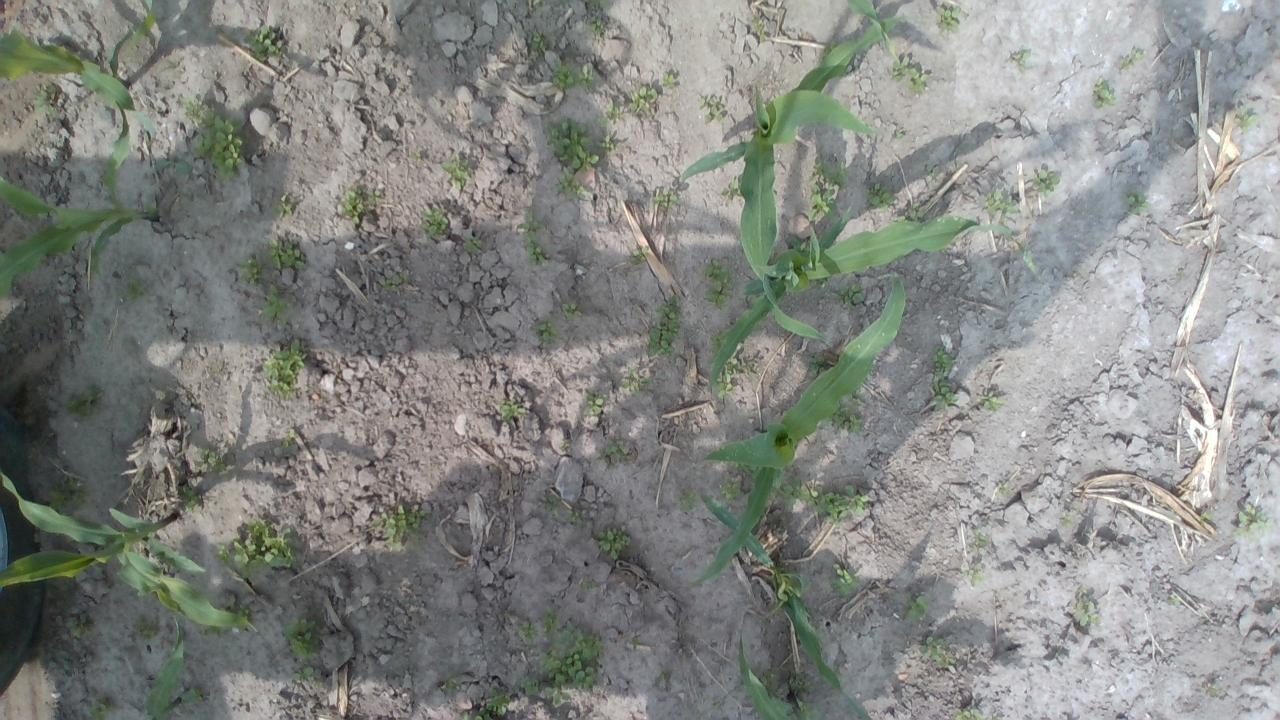Maize: (674, 16, 910, 346), (691, 276, 910, 591), (707, 214, 1036, 390), (0, 467, 261, 633), (698, 491, 874, 720), (0, 98, 161, 299), (0, 10, 159, 144), (738, 633, 816, 720), (144, 621, 185, 720), (846, 0, 906, 64)
Weeds: (182, 94, 246, 184), (537, 608, 607, 688), (770, 474, 871, 528), (231, 517, 298, 576), (543, 117, 600, 173), (371, 502, 430, 552), (262, 337, 305, 400), (807, 158, 847, 222), (646, 296, 686, 358), (701, 253, 740, 312), (712, 355, 758, 400), (928, 345, 958, 412), (44, 479, 93, 519), (64, 386, 110, 426), (550, 56, 600, 92), (515, 206, 545, 266), (286, 614, 322, 660), (891, 53, 929, 96), (554, 166, 595, 204), (829, 392, 866, 434), (215, 590, 256, 626), (829, 561, 866, 600), (441, 152, 476, 193), (264, 239, 306, 273), (262, 284, 293, 328), (1071, 584, 1101, 628), (596, 526, 632, 562), (30, 79, 66, 115), (1234, 504, 1269, 541), (248, 23, 283, 60), (418, 202, 450, 239), (128, 608, 162, 642), (829, 281, 865, 312), (984, 186, 1020, 216), (238, 253, 268, 288), (921, 636, 956, 666), (628, 85, 660, 116), (620, 366, 653, 396), (340, 189, 366, 226), (901, 590, 931, 622), (176, 479, 204, 513), (192, 445, 224, 474), (864, 183, 896, 212), (594, 98, 624, 128), (88, 692, 120, 720), (601, 437, 629, 468), (484, 685, 512, 716), (119, 276, 149, 304), (701, 94, 729, 124), (789, 664, 815, 695), (936, 3, 962, 34), (534, 317, 560, 348), (153, 157, 192, 177), (959, 560, 988, 586), (1091, 79, 1116, 109), (498, 398, 528, 422), (378, 272, 408, 296), (66, 618, 98, 640), (719, 476, 744, 504), (541, 684, 571, 707), (1034, 168, 1062, 192), (1233, 103, 1256, 132), (978, 390, 1008, 412), (678, 487, 702, 514), (1122, 192, 1150, 215), (582, 393, 608, 416), (517, 621, 539, 648), (652, 190, 681, 210), (286, 666, 322, 682), (806, 354, 832, 376), (596, 134, 624, 154), (1119, 50, 1144, 72), (528, 30, 550, 54), (276, 192, 296, 218), (1010, 48, 1030, 74), (721, 177, 743, 200), (760, 669, 780, 694), (214, 542, 232, 569), (460, 232, 480, 256), (519, 676, 540, 698), (968, 528, 988, 550), (953, 707, 985, 720), (181, 686, 204, 704), (907, 199, 924, 223), (752, 16, 768, 41), (590, 16, 608, 38), (442, 676, 462, 694), (630, 246, 650, 264), (577, 576, 598, 593), (566, 510, 586, 527), (996, 481, 1014, 499), (544, 494, 560, 514), (560, 300, 576, 320), (462, 711, 492, 720), (205, 626, 224, 640), (661, 71, 676, 88), (368, 190, 382, 208), (282, 431, 296, 448), (710, 334, 724, 351), (1060, 514, 1074, 530), (926, 162, 942, 176), (657, 671, 669, 689), (1168, 594, 1182, 608), (588, 0, 608, 9), (1206, 682, 1218, 696), (1200, 511, 1212, 523), (168, 608, 182, 618), (101, 582, 113, 593), (814, 279, 826, 288), (894, 129, 904, 139), (110, 502, 120, 510), (992, 712, 1002, 720)
